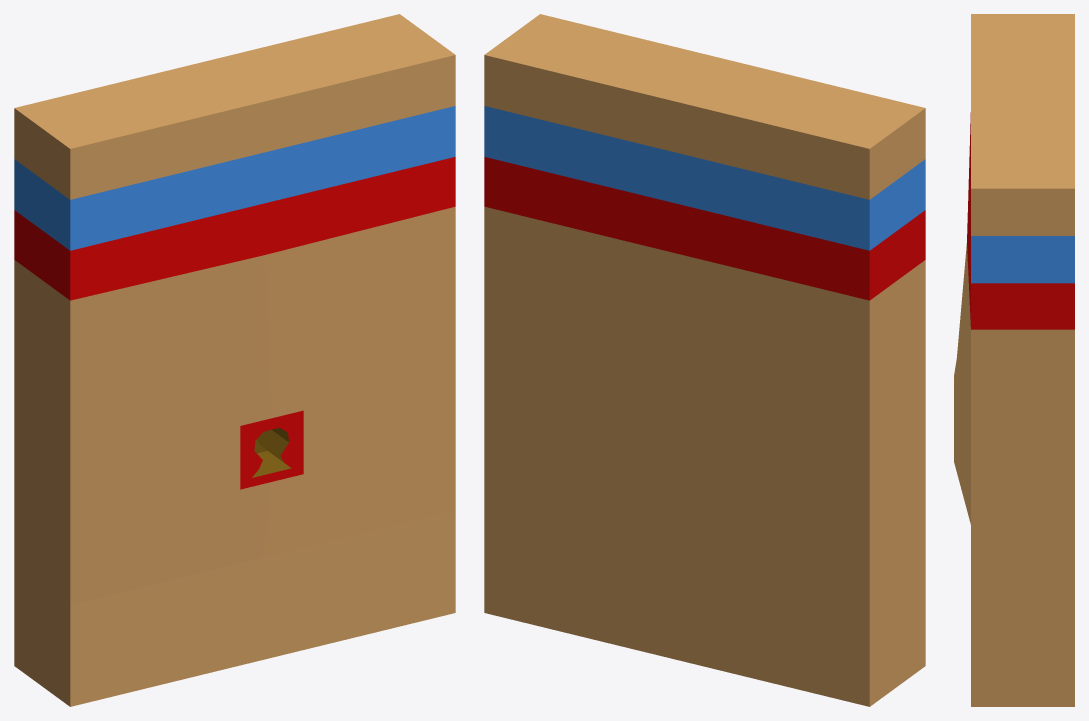
The model's file is Escape_Room_Door.fbx.
3 renders of one model, left to right at view 1: azimuth 30°, elevation 25°; view 2: azimuth 150°, elevation 25°; view 3: azimuth 270°, elevation 25°, orthographic. The views are drawn at different scales.
Visible parts, largest first — view 1: Cube; view 2: Cube; view 3: Cube.
Part boxes in pixels (x1=…): Cube: x1=14, y1=14, x2=455, y2=706; Cube: x1=484, y1=14, x2=925, y2=706; Cube: x1=954, y1=14, x2=1074, y2=706.
Size of the model in its own units: 796 by 1101 by 232.
